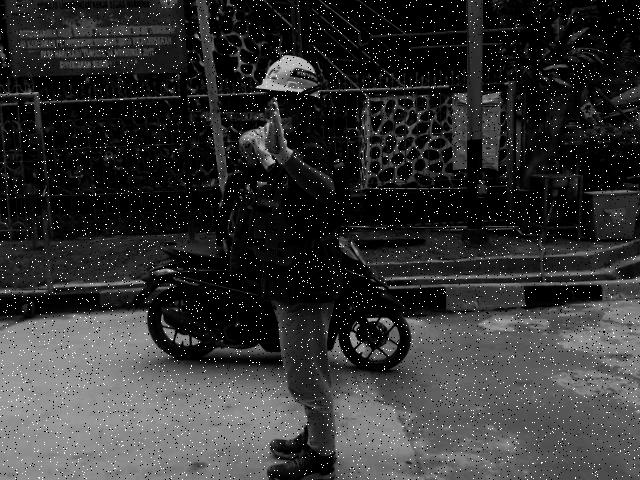glasses: (264, 96, 301, 108)
gloves: (258, 97, 296, 166), (253, 119, 275, 171)
helmet: (257, 47, 331, 100)
mask: (279, 116, 297, 138)
safety-shoes: (266, 448, 338, 480), (270, 427, 311, 458)
vest: (248, 155, 352, 266)
